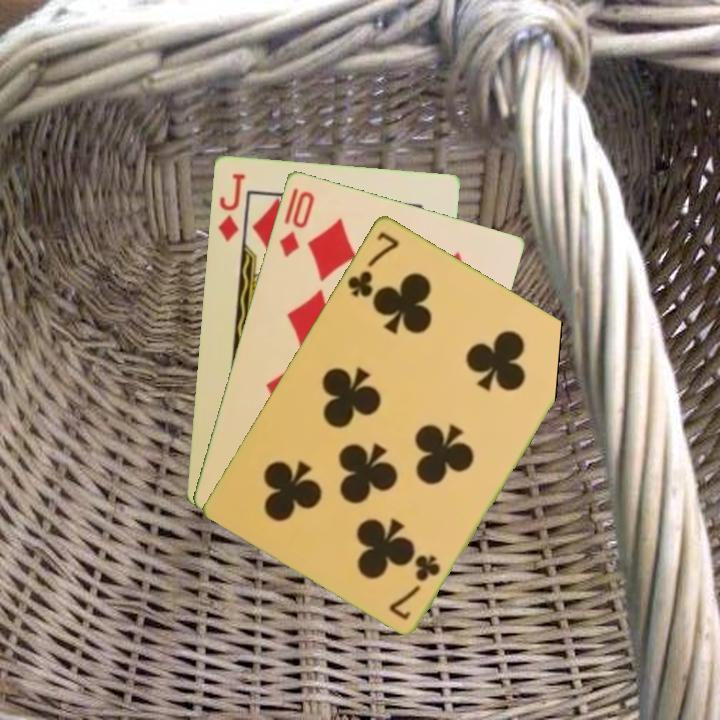10d: (275, 186, 317, 260)
7c: (343, 227, 402, 300), (385, 550, 444, 622)
Jd: (214, 169, 248, 244)
